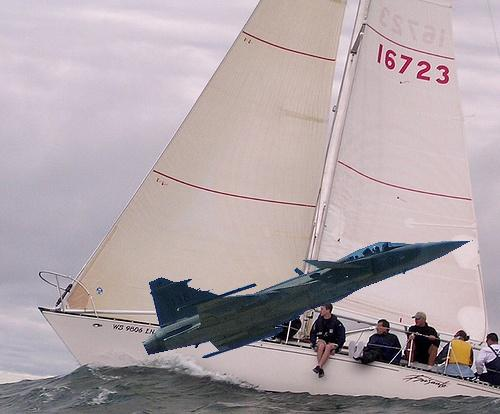tampered: (143, 240, 474, 358)
